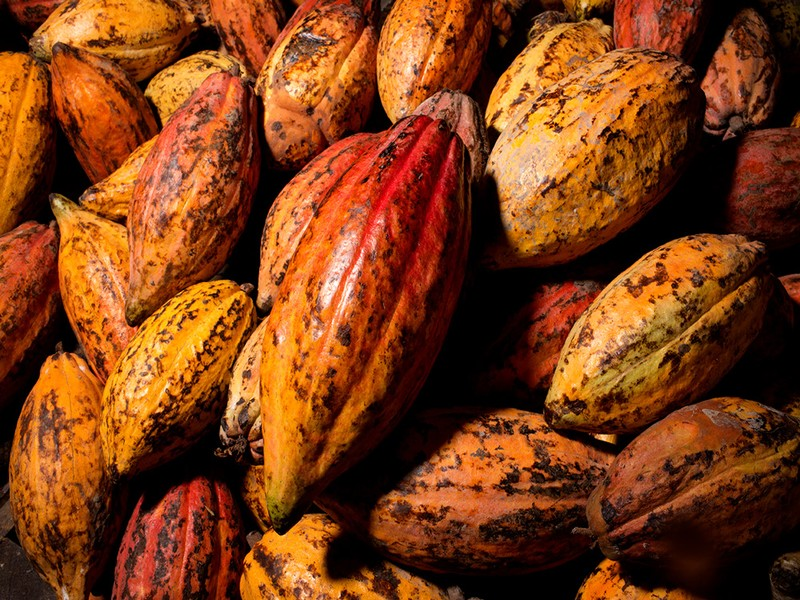Cacaopod: (261, 116, 471, 537), (481, 47, 701, 269), (7, 340, 116, 600)
